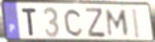3: (42, 6, 62, 39)
C: (63, 8, 85, 38)
I: (131, 7, 142, 40)
M: (105, 9, 130, 38)
T: (20, 7, 38, 37)
Z: (84, 7, 107, 39)
